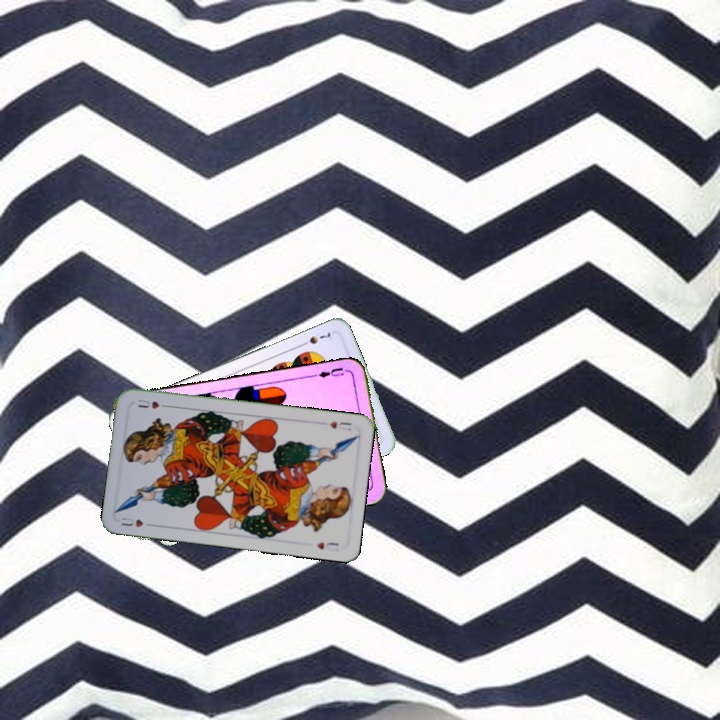EU: (311, 363, 352, 380)
HU: (117, 512, 156, 530), (325, 417, 354, 433)
S7: (296, 328, 335, 349)
